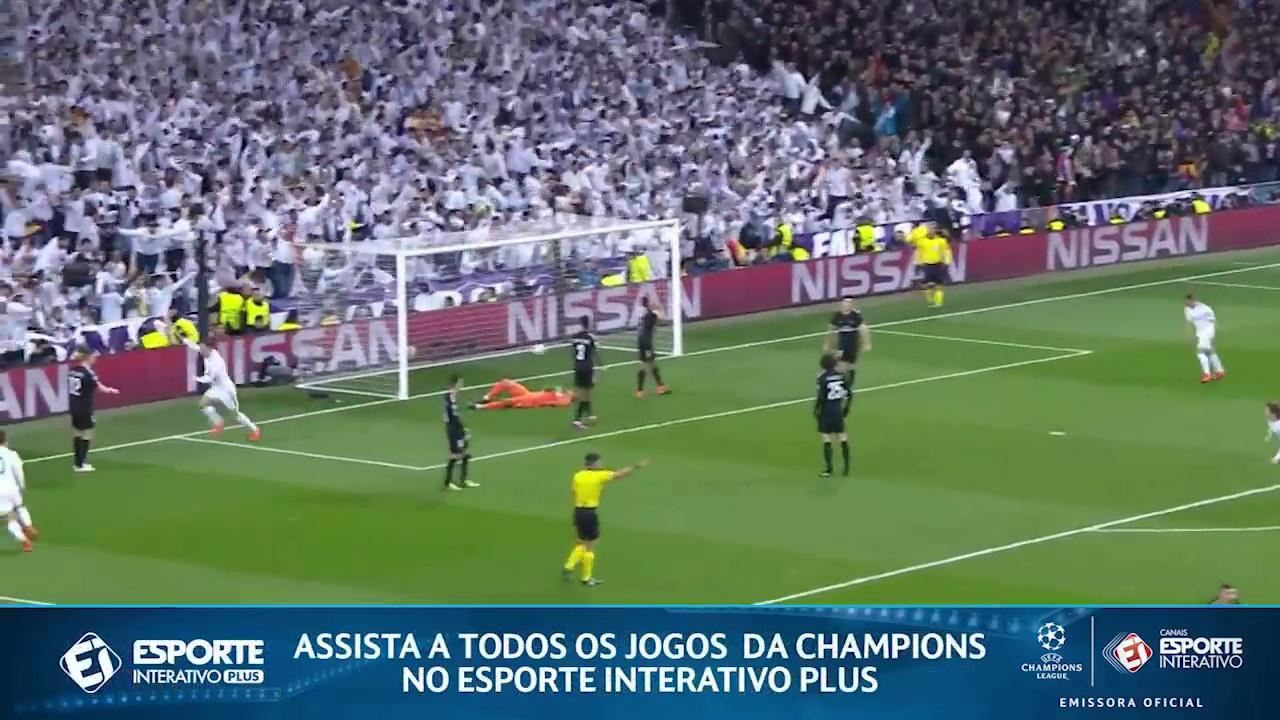football: (530, 344, 546, 354)
player: (185, 340, 259, 440), (68, 349, 118, 471), (0, 430, 38, 551), (813, 354, 850, 476), (824, 296, 870, 387), (444, 374, 478, 489), (1185, 294, 1224, 382), (569, 316, 599, 428), (471, 379, 573, 409), (636, 297, 666, 396), (1209, 584, 1239, 604), (1265, 403, 1279, 440)
referee: (563, 453, 648, 585), (913, 223, 952, 306)
